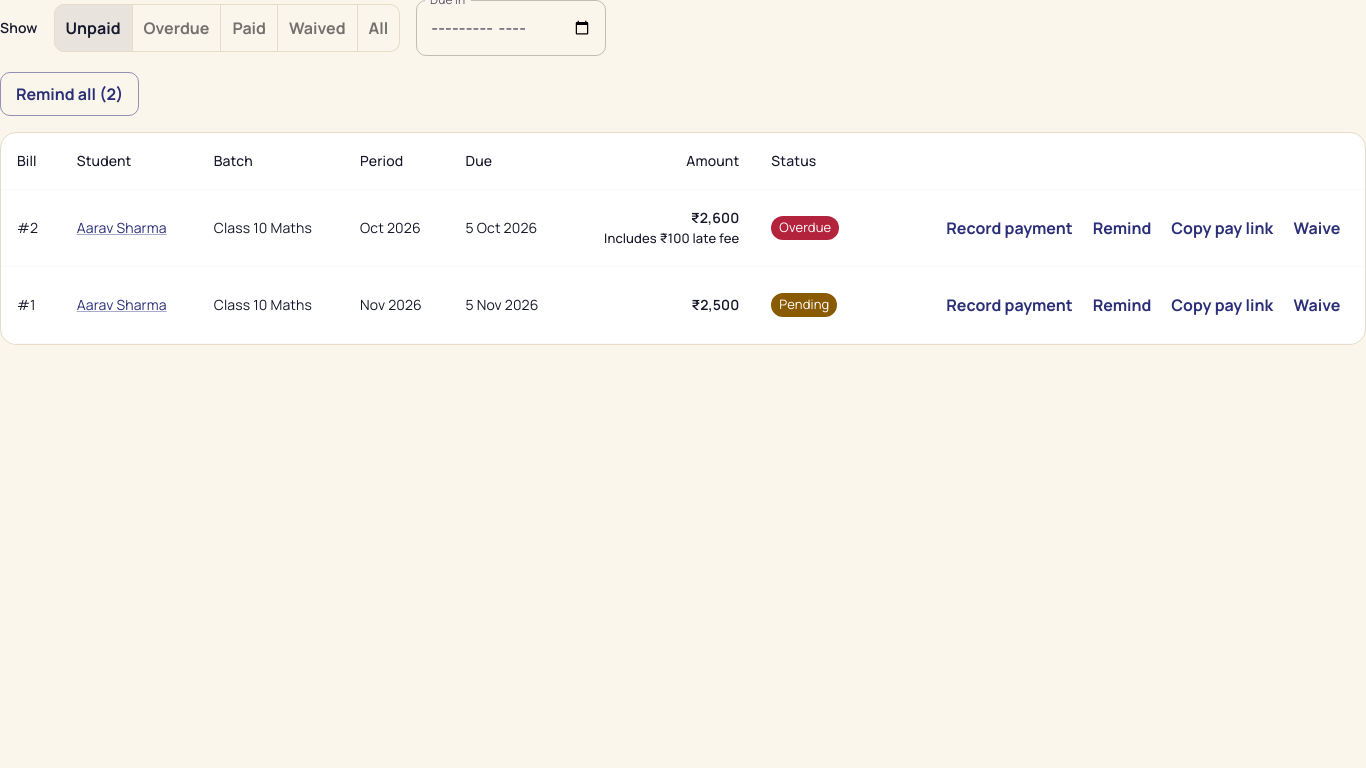
Test: InvoiceList › explains when a bill can't be waived
Expected: the table is shown, x1=1 y1=133 x2=1365 y2=344
Click the button with aria-label "Waive bill #1": (1317, 305) x1=1285 y1=283 x2=1349 y2=327
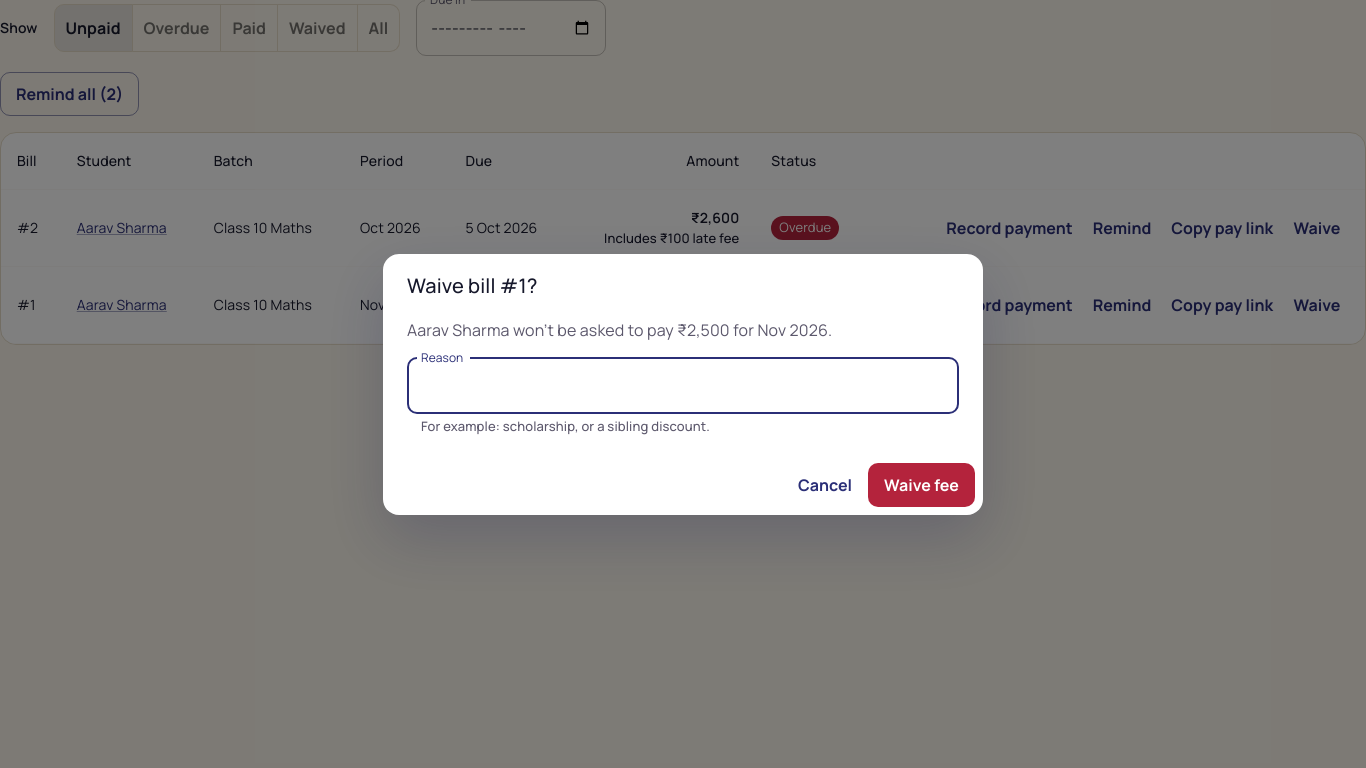
In the field labelled "Reason": (683, 386) x1=407 y1=358 x2=959 y2=414, type "Scholarship"
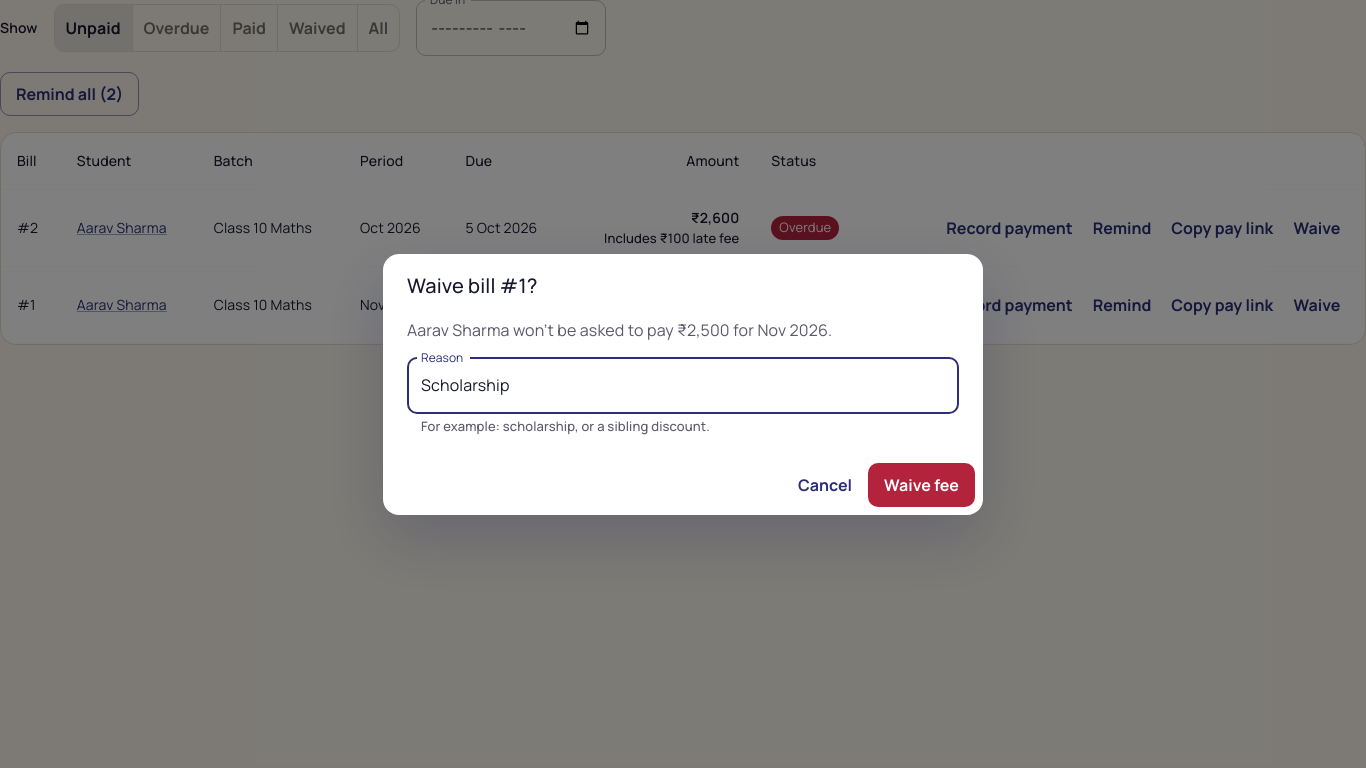
Click the button "Waive fee": (922, 484) x1=868 y1=462 x2=975 y2=506
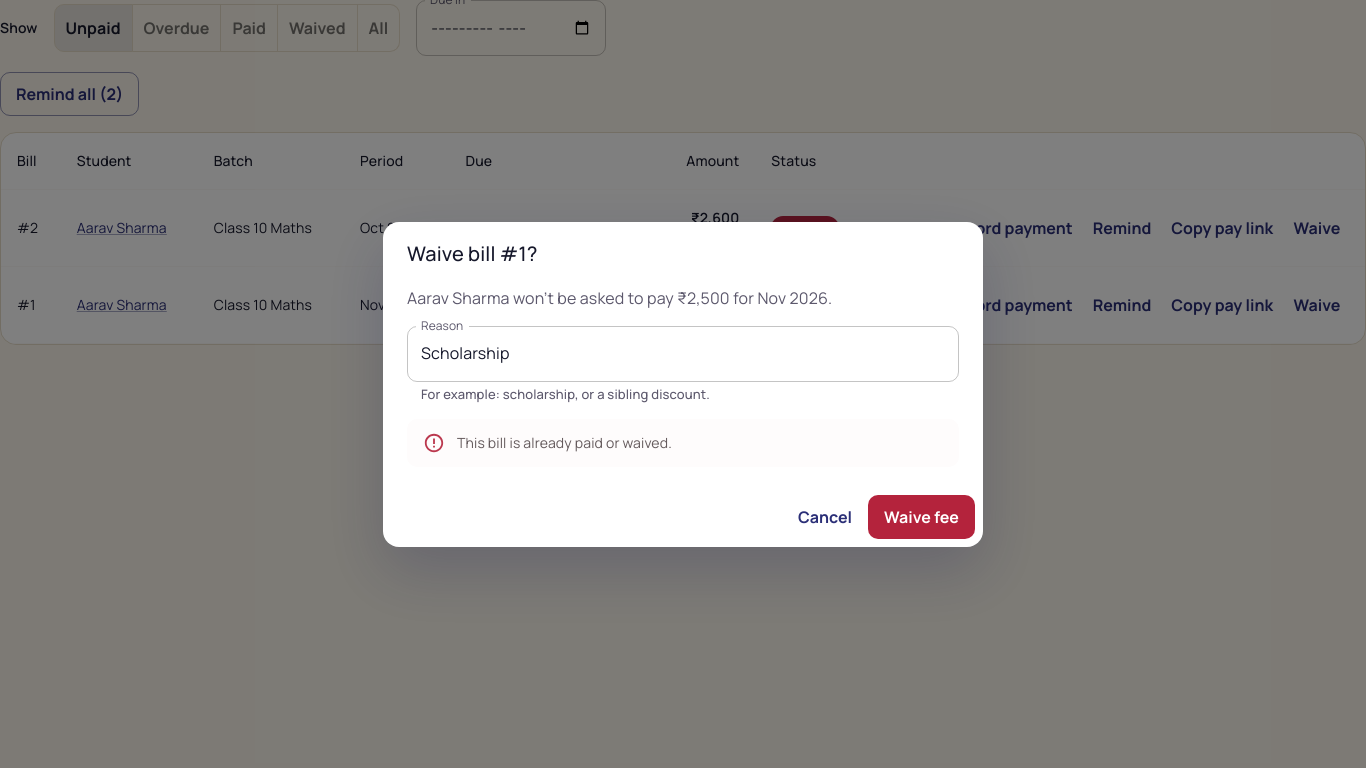
Now the message reads "This bill is already paid or waived.", box x1=457 y1=432 x2=672 y2=452
